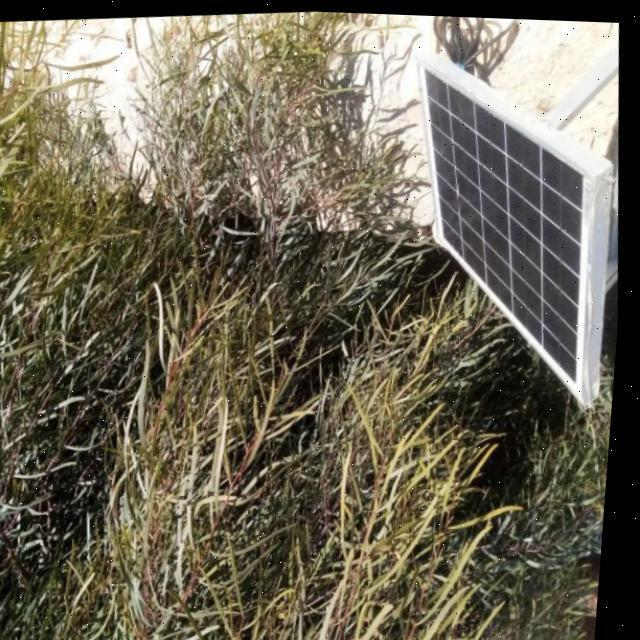Normal Solar Panel: (396, 39, 620, 411)
